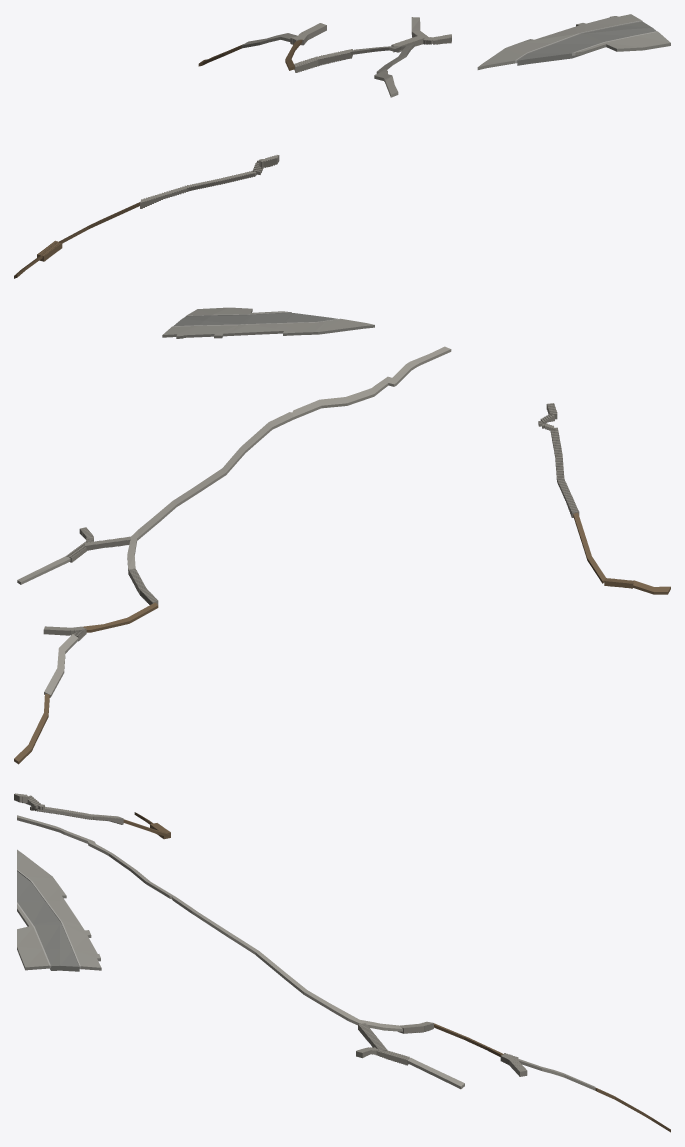
3 renders of one model, top to bottom at view 1: azimuth 30°, elevation 25°; view 2: azimuth 150°, elevation 25°; view 3: azimuth 270°, elevation 25°, orthographic. The views are drawn at different scales.
Bounding box in the file's own units: 147 × 62.35 × 146.
